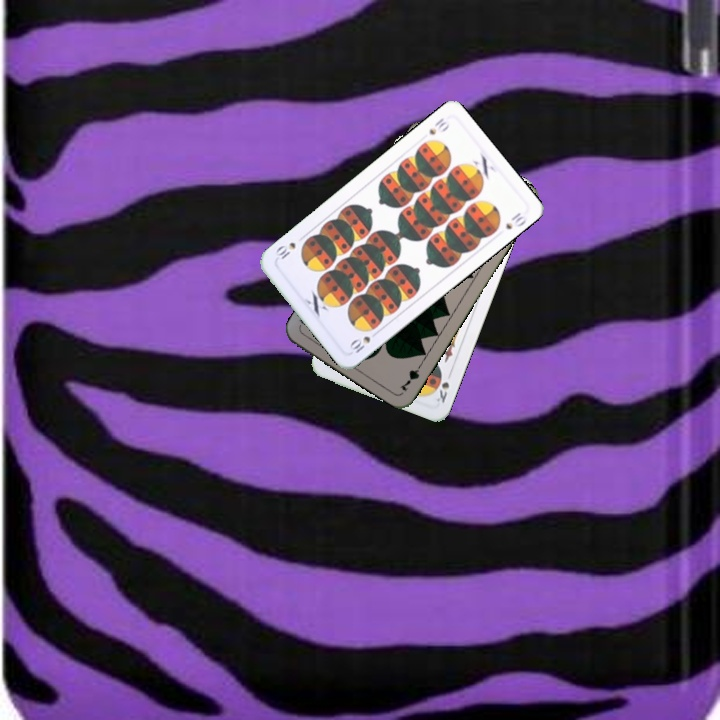G7: (396, 358, 426, 394)
S10: (346, 326, 382, 357), (425, 114, 449, 138)
SK: (431, 378, 452, 406)
